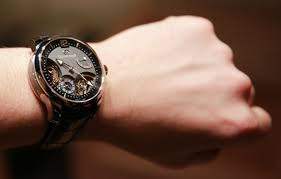clock: (39, 37, 104, 104)
